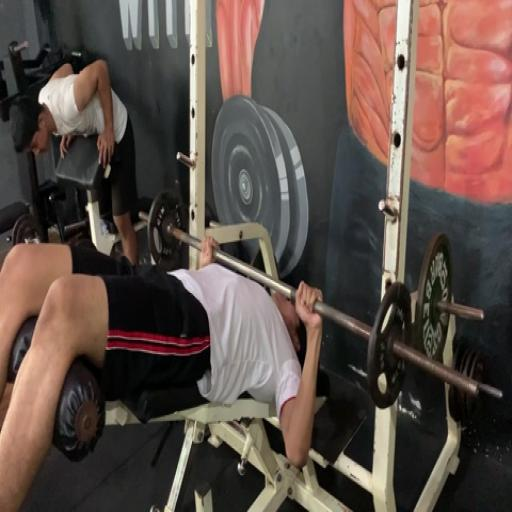exercise: (0, 233, 326, 510), (10, 54, 143, 269)
